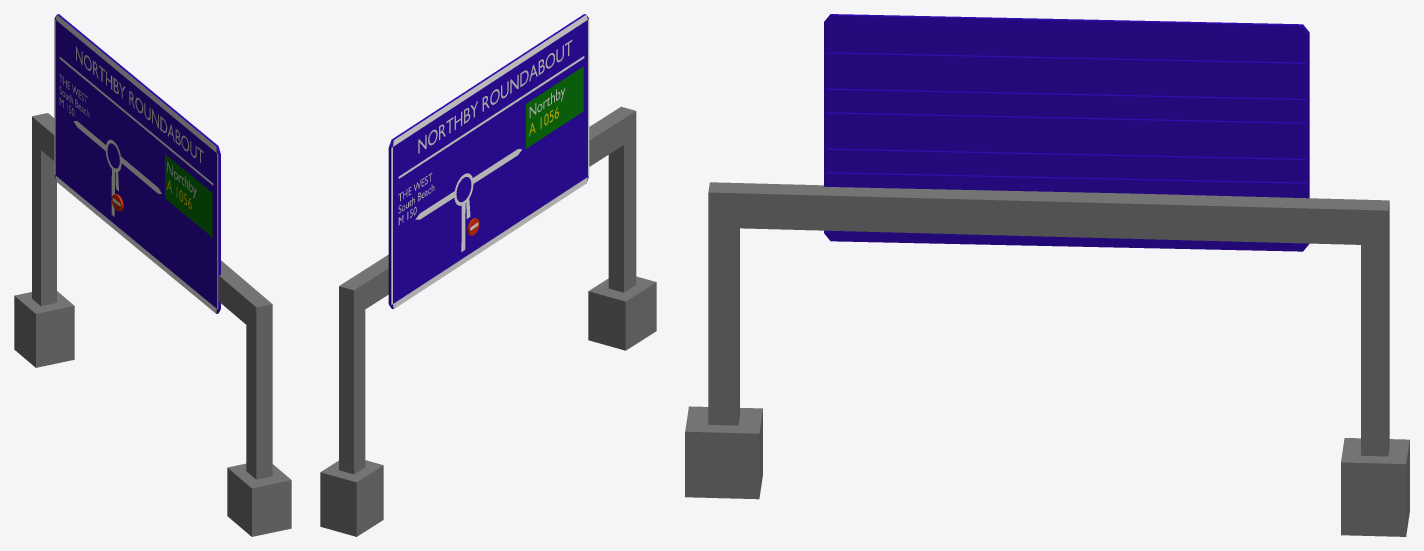
The model's file is RoundaboutSignNorthbyRoundabout2.fbx.
The picture shows the model from 3 angles, left to right: view 1: azimuth 30°, elevation 25°; view 2: azimuth 150°, elevation 25°; view 3: azimuth 270°, elevation 25°; orthographic projection. The views are drawn at different scales.
Visible parts, largest first — view 1: Cube.030, Cube.002, Plane, Text.002, DashedLine, Text.001; view 2: Cube.030, Cube.002, Plane, Text.002, DashedLine, Text.001; view 3: Cube.030, Cube.002.
Boxes of the visible parts, left/top/right/bottom form: Cube.030: left=54, top=14, right=220, bottom=313; Cube.002: left=14, top=113, right=291, bottom=536; Plane: left=165, top=154, right=212, bottom=237; Text.002: left=76, top=46, right=203, bottom=162; DashedLine: left=59, top=57, right=213, bottom=185; Text.001: left=59, top=74, right=89, bottom=117; Cube.030: left=388, top=14, right=589, bottom=309; Cube.002: left=320, top=106, right=656, bottom=536; Plane: left=526, top=66, right=583, bottom=148; Text.002: left=418, top=40, right=572, bottom=153; DashedLine: left=398, top=56, right=584, bottom=178; Text.001: left=398, top=173, right=434, bottom=225; Cube.030: left=824, top=14, right=1309, bottom=251; Cube.002: left=685, top=182, right=1409, bottom=536.
Size of the model in its own units: 173 by 895 by 1200.
